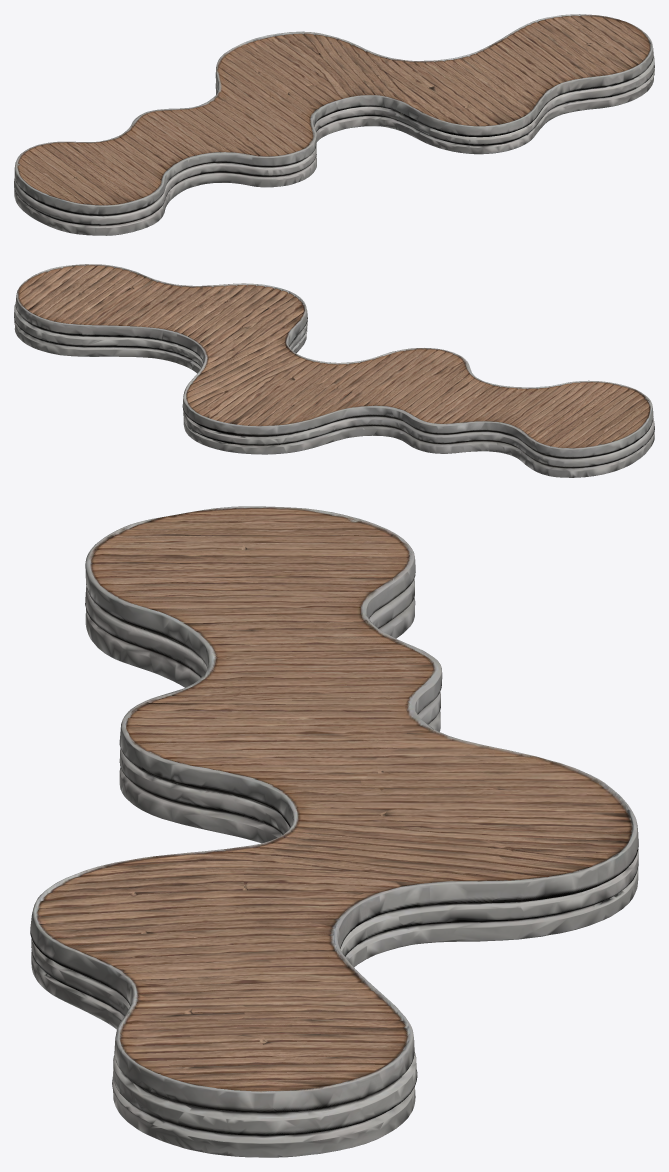
The model's file is deckwave.glb.
The picture shows the model from 3 angles, top to bottom: view 1: azimuth 30°, elevation 25°; view 2: azimuth 150°, elevation 25°; view 3: azimuth 270°, elevation 25°; orthographic projection. The views are drawn at different scales.
Visible parts, largest first — view 1: tripo_node_9ec09905-91dd-470f-8dda-bee24659368a; view 2: tripo_node_9ec09905-91dd-470f-8dda-bee24659368a; view 3: tripo_node_9ec09905-91dd-470f-8dda-bee24659368a.
Boxes of the visible parts, box(x1,y1,x2,y2) form: tripo_node_9ec09905-91dd-470f-8dda-bee24659368a: box(14, 14, 654, 235); tripo_node_9ec09905-91dd-470f-8dda-bee24659368a: box(14, 264, 654, 477); tripo_node_9ec09905-91dd-470f-8dda-bee24659368a: box(30, 506, 638, 1157).
Bounding box in the file's own units: 9.23 × 0.4992 × 3.97.
1 material, 1 textured.
